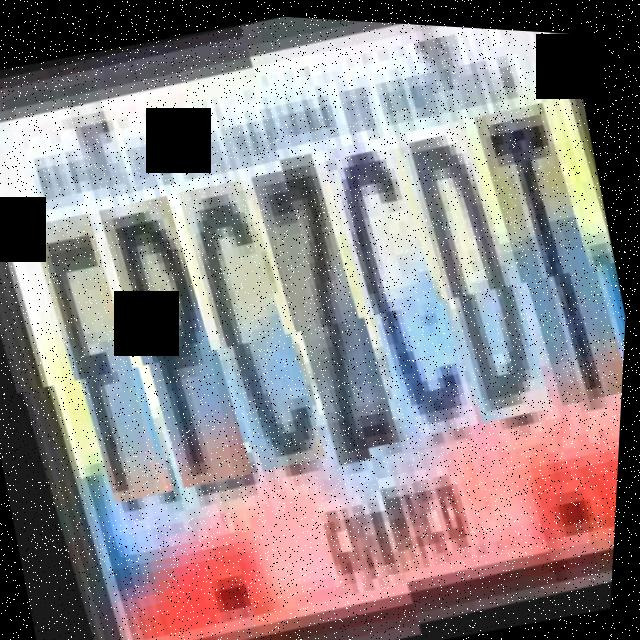C: (315, 135, 490, 456), (170, 169, 335, 478)
D: (390, 118, 563, 439)
F: (24, 205, 182, 510)
P: (92, 186, 261, 496)
T: (467, 100, 637, 421)
Z: (244, 153, 410, 471)
